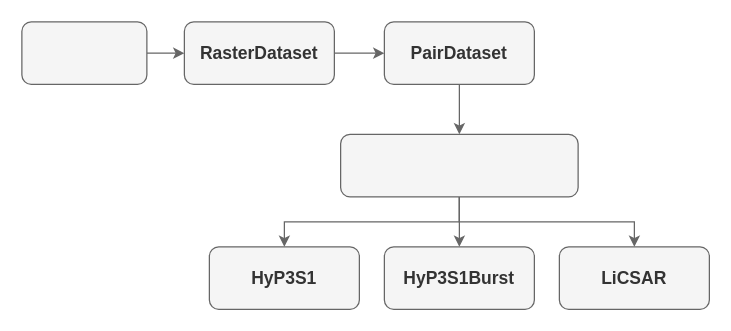
Some shapes in this 731 by 331 pixel diagram are drawn without their labels. Here are the shapes that lost their labels. From the top down, the centre of each, then its label:
At point 84,52: "GeoDataset".
At point 458,165: "InterferogramDataset".
